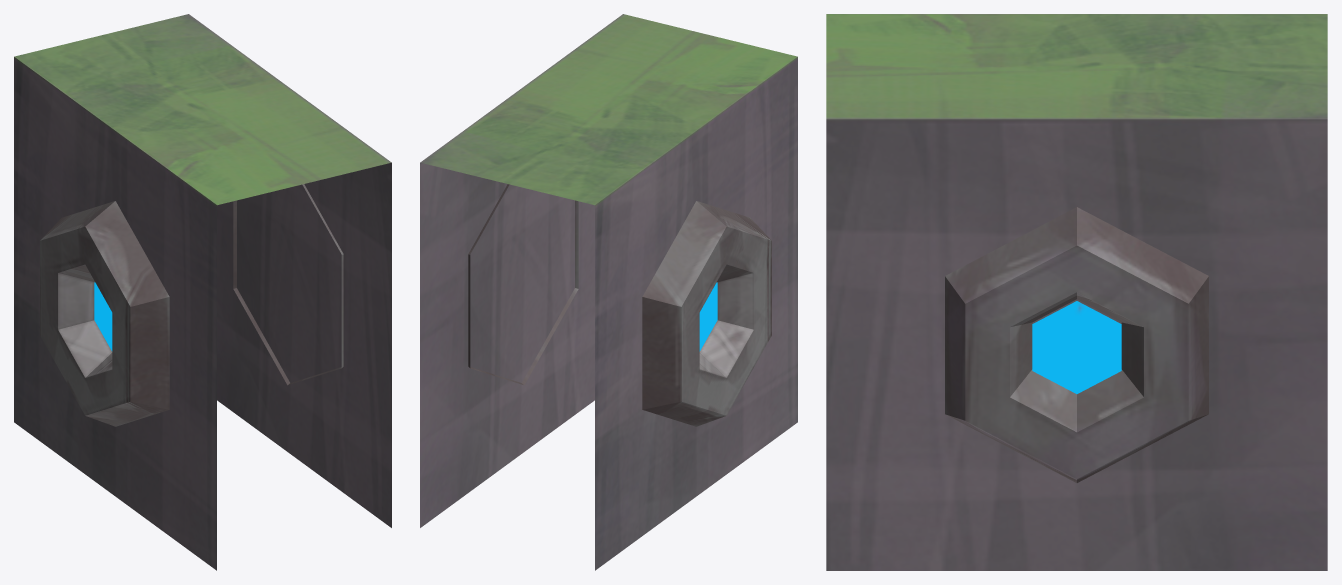
File: wall_shot_chunk.fbx
The picture shows the model from 3 angles, left to right: view 1: azimuth 30°, elevation 25°; view 2: azimuth 150°, elevation 25°; view 3: azimuth 270°, elevation 25°; orthographic projection. The views are drawn at different scales.
Visible parts, largest first — view 1: wall_shot_wall, wall_shot_body1, wall_shot_body, zootonium_shot1; view 2: wall_shot_wall, wall_shot_body1, wall_shot_body, zootonium_shot1; view 3: wall_shot_wall, wall_shot_body, zootonium_shot.
Boxes of the visible parts, x1,y1,x2,y2 form: wall_shot_wall: (14, 14, 391, 570); wall_shot_body1: (40, 201, 169, 426); wall_shot_body: (233, 184, 343, 385); zootonium_shot1: (94, 282, 112, 351); wall_shot_wall: (420, 14, 797, 570); wall_shot_body1: (642, 201, 771, 426); wall_shot_body: (468, 184, 578, 385); zootonium_shot1: (699, 282, 717, 351); wall_shot_wall: (826, 14, 1327, 570); wall_shot_body: (945, 207, 1208, 482); zootonium_shot: (1032, 301, 1121, 393).
Size of the model in its own units: 0.0134 by 0.02 by 0.0201.
